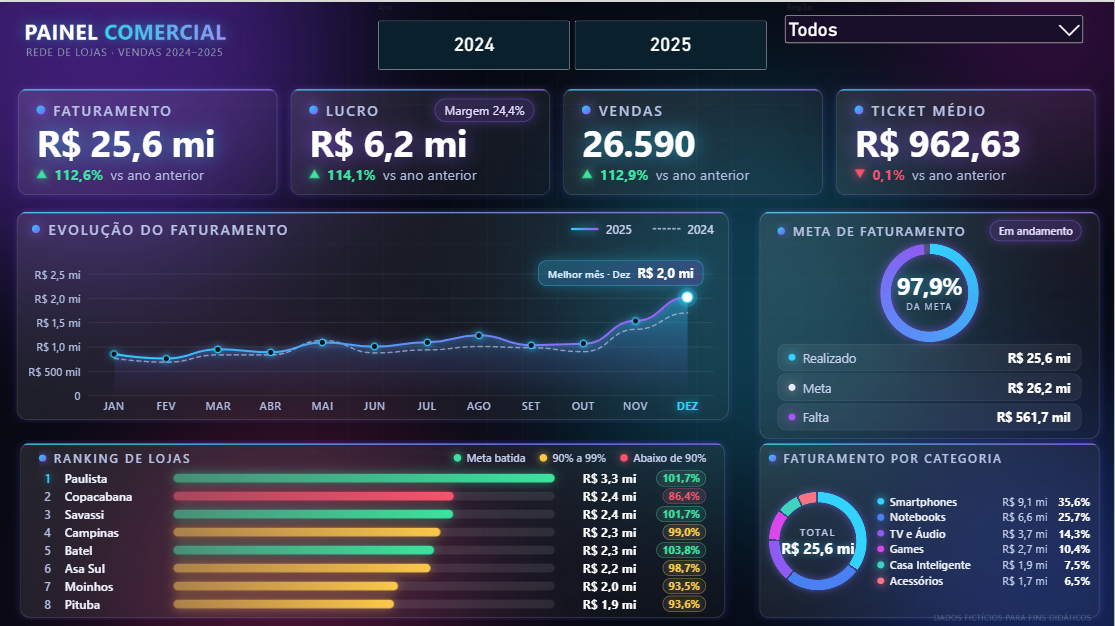

What the dashboard file says about the page in this screenshot:
{"tool":"powerbi","page":{"name":"Página 1","canvas":[1920,1080],"ordinal":0},"visuals":[{"type":"htmlContent443BE3AD55E043BF878BED274D3A6855","fields":{"content":["_Medidas.HTML Evolução"]},"box":[0,341.3,1284,399.9],"z":0},{"type":"htmlContent443BE3AD55E043BF878BED274D3A6855","fields":{"content":["_Medidas.HTML Meta"]},"box":[1284,341.3,636,434.3],"z":1000},{"type":"slicer","fields":{"Values":["dLojas.Região"]},"box":[1347.8,0,523.9,132.7],"z":2000},{"type":"advancedSlicerVisual","fields":{"Values":["dCalendario.Ano"]},"box":[651.5,0,670.4,117.2],"z":2001},{"type":"htmlContent443BE3AD55E043BF878BED274D3A6855","fields":{"content":["_Medidas.HTML Cartões"]},"box":[0,127.5,1920,229.2],"z":2002},{"type":"htmlContent443BE3AD55E043BF878BED274D3A6855","fields":{"content":["_Medidas.HTML Ranking Lojas"]},"box":[0,741.1,1284,339.5],"z":2003},{"type":"htmlContent443BE3AD55E043BF878BED274D3A6855","fields":{"content":["_Medidas.HTML Categorias"]},"box":[1284,741.1,636,339.5],"z":2004}]}

Visuals, with their boxes in screenshot pixels (x1, y1, x2, y2), scaled from the page's 1920x1080 canvas onto the 1115x626 screenshot:
htmlContent443BE3AD55E043BF878BED274D3A6855 - _Medidas.HTML Evolução: detection(0, 198, 746, 430)
htmlContent443BE3AD55E043BF878BED274D3A6855 - _Medidas.HTML Meta: detection(746, 198, 1114, 450)
slicer - dLojas.Região: detection(783, 0, 1087, 77)
advancedSlicerVisual - dCalendario.Ano: detection(378, 0, 768, 68)
htmlContent443BE3AD55E043BF878BED274D3A6855 - _Medidas.HTML Cartões: detection(0, 74, 1114, 207)
htmlContent443BE3AD55E043BF878BED274D3A6855 - _Medidas.HTML Ranking Lojas: detection(0, 430, 746, 625)
htmlContent443BE3AD55E043BF878BED274D3A6855 - _Medidas.HTML Categorias: detection(746, 430, 1114, 625)
